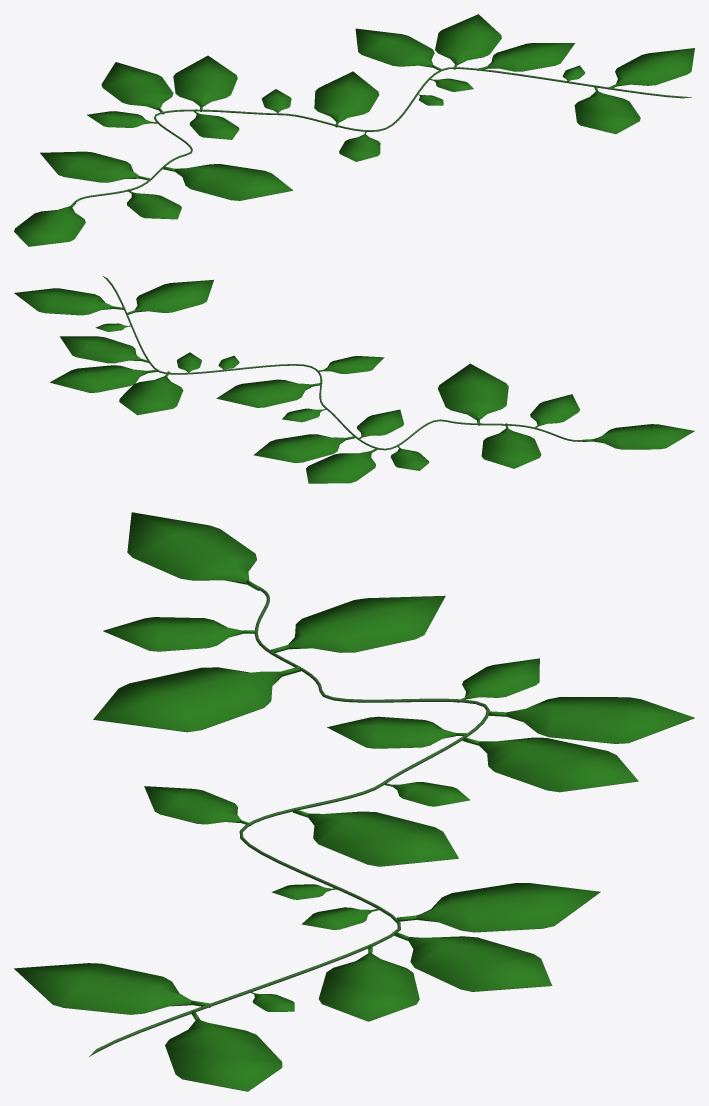
Rendered from Ivy.glb.
The picture shows the model from 3 angles, top to bottom: view 1: azimuth 30°, elevation 25°; view 2: azimuth 150°, elevation 25°; view 3: azimuth 270°, elevation 25°; orthographic projection. The views are drawn at different scales.
Parts seen in each view (by area): view 1: BezierCurve; view 2: BezierCurve; view 3: BezierCurve.
Part boxes in pixels (<box>): BezierCurve: <box>14,14,694,246</box>; BezierCurve: <box>14,276,694,483</box>; BezierCurve: <box>14,512,694,1091</box>.
Bounding box in the file's own units: 24.99 × 0.3766 × 12.32.
